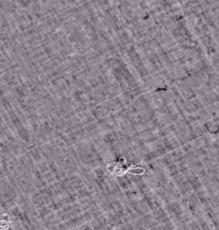snag: (105, 153, 151, 185)
